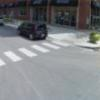cars: (16, 21, 48, 41)
